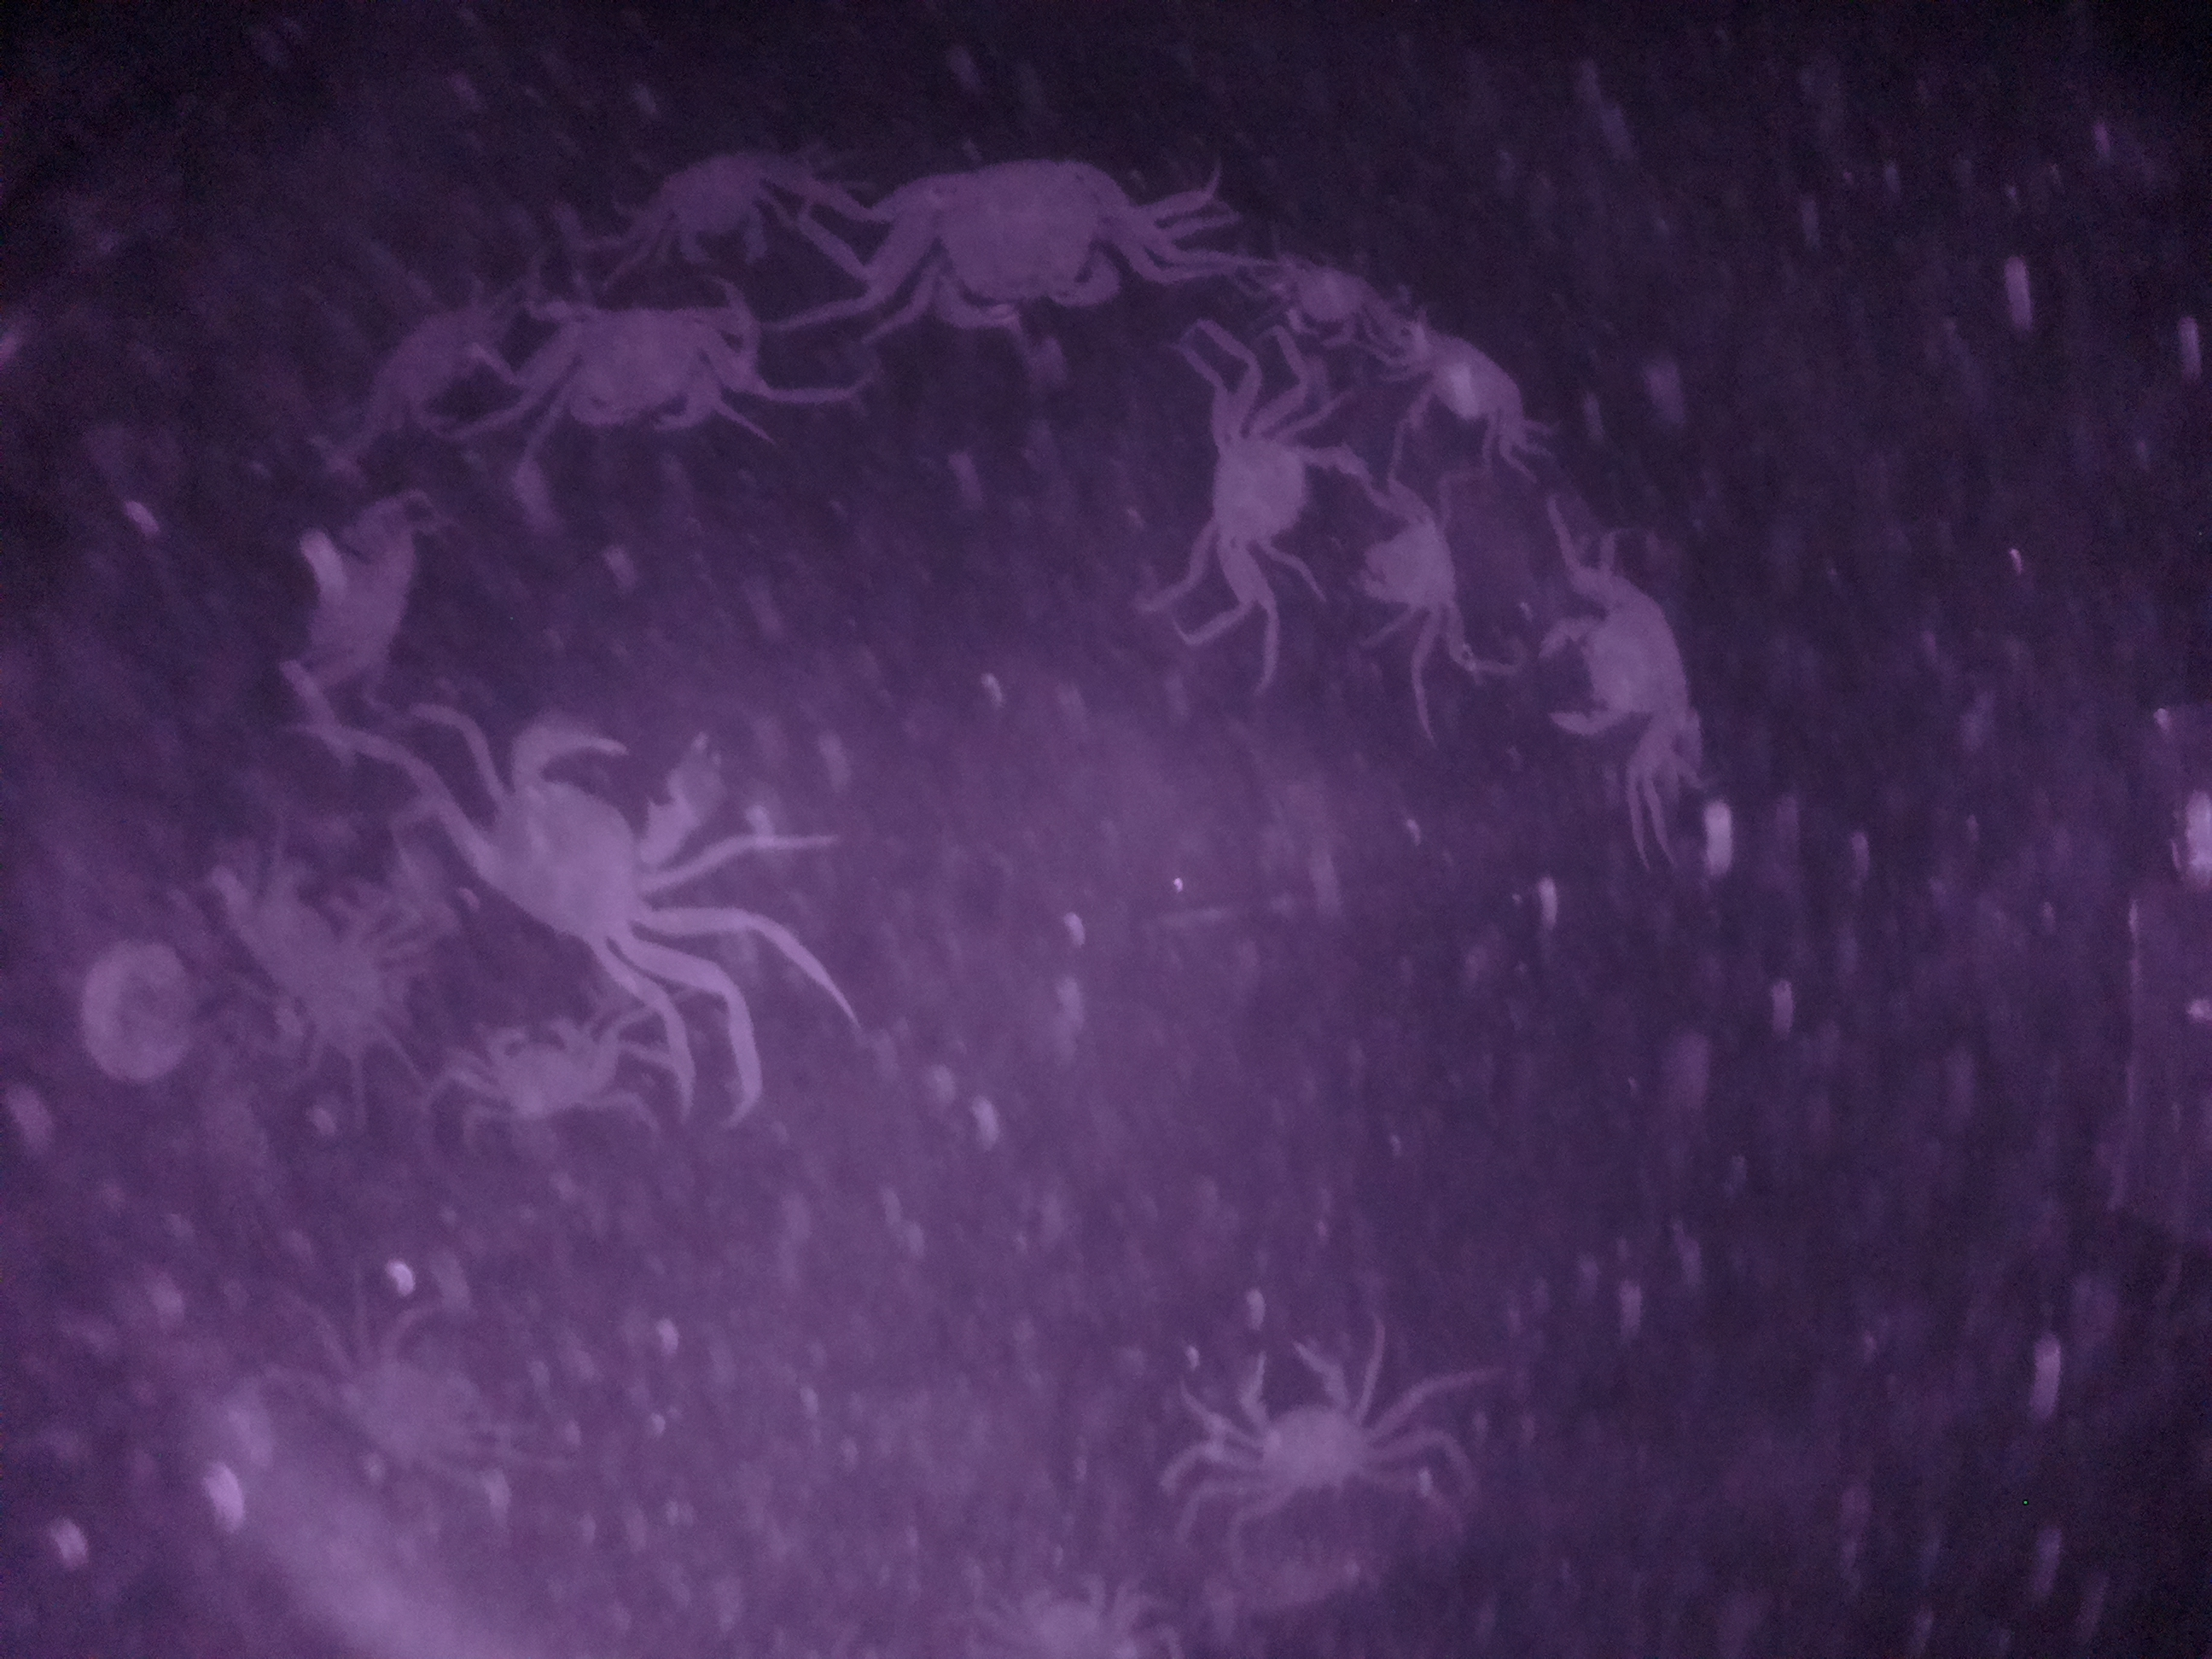Crab: (448, 685, 759, 981), (876, 118, 1184, 354), (1197, 1328, 1423, 1530), (528, 265, 766, 446), (1186, 383, 1350, 633), (1526, 565, 1721, 763), (449, 995, 637, 1145), (1357, 471, 1472, 666), (1268, 227, 1420, 364)
